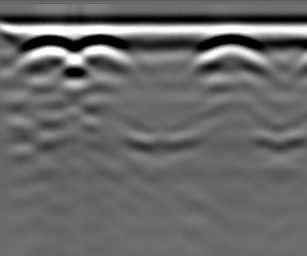steel: (198, 35, 264, 70), (76, 34, 130, 69), (19, 35, 72, 68)
